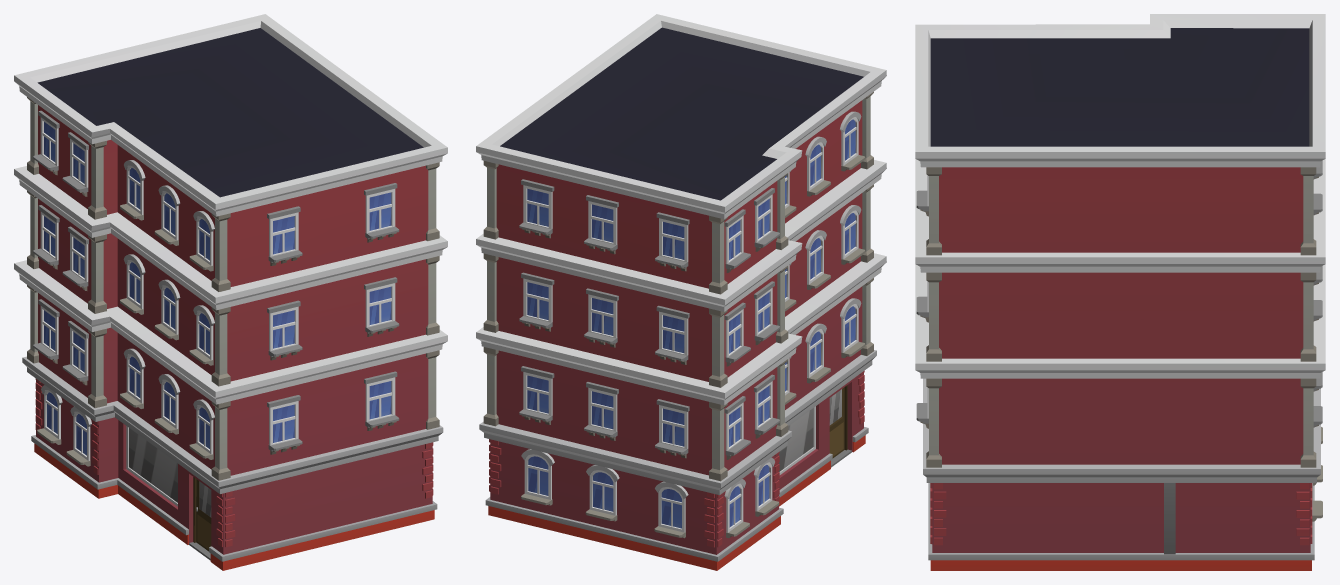
The model's file is Building_1_4_H.glb.
3 renders of one model, left to right at view 1: azimuth 30°, elevation 25°; view 2: azimuth 150°, elevation 25°; view 3: azimuth 270°, elevation 25°, orthographic. The views are drawn at different scales.
Visible parts, largest first — view 1: Building_1_4_H; view 2: Building_1_4_H; view 3: Building_1_4_H.
Part boxes in pixels (x1,y1,x2,y2): Building_1_4_H: (14,14,447,570); Building_1_4_H: (476,14,886,570); Building_1_4_H: (915,14,1325,570).
Bounding box in the file's own units: 8.41 × 12.01 × 10.57.
3 materials, 3 textured.
